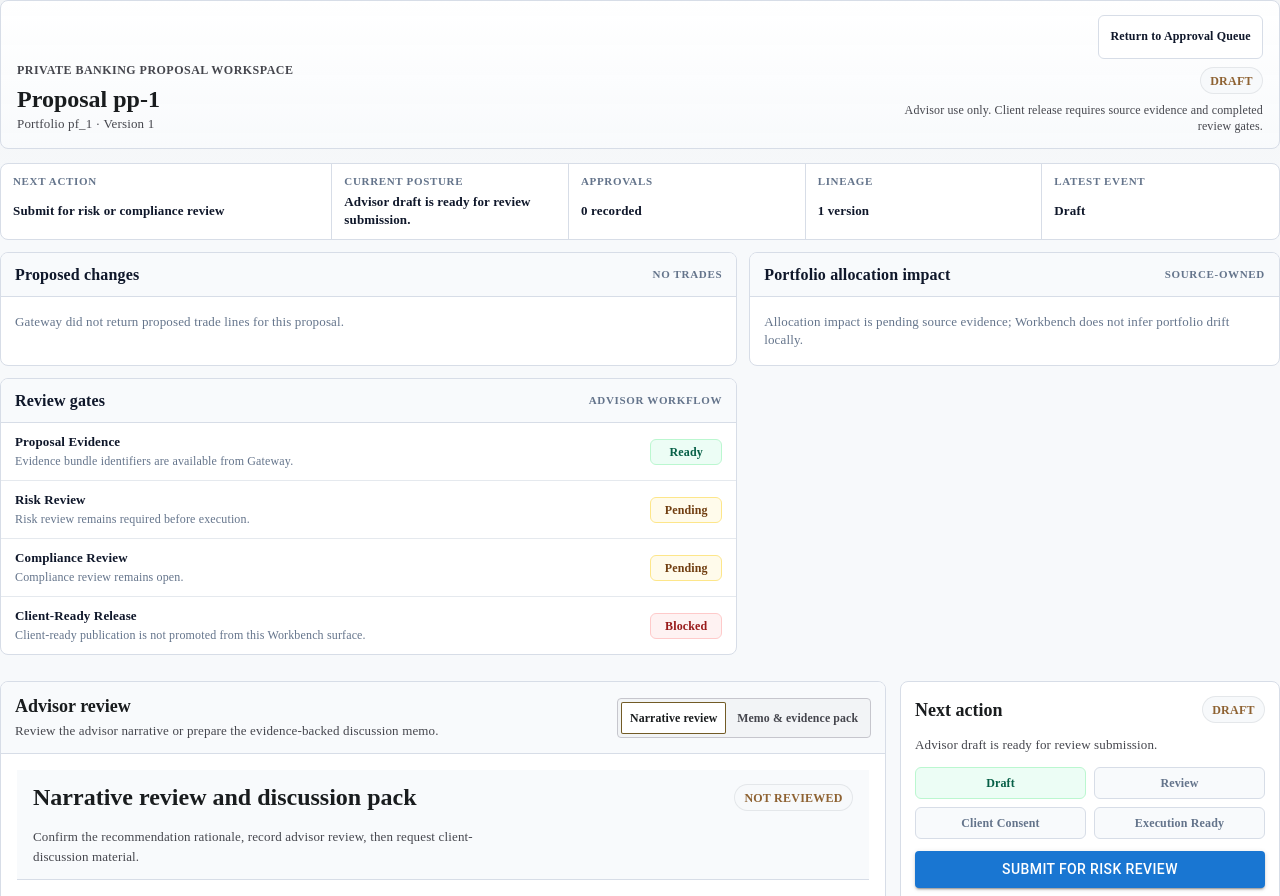
Test: ProposalDetailView › submits draft to risk review
Click the button "Submit for risk review" at (1090, 870), box x1=915 y1=851 x2=1265 y2=888
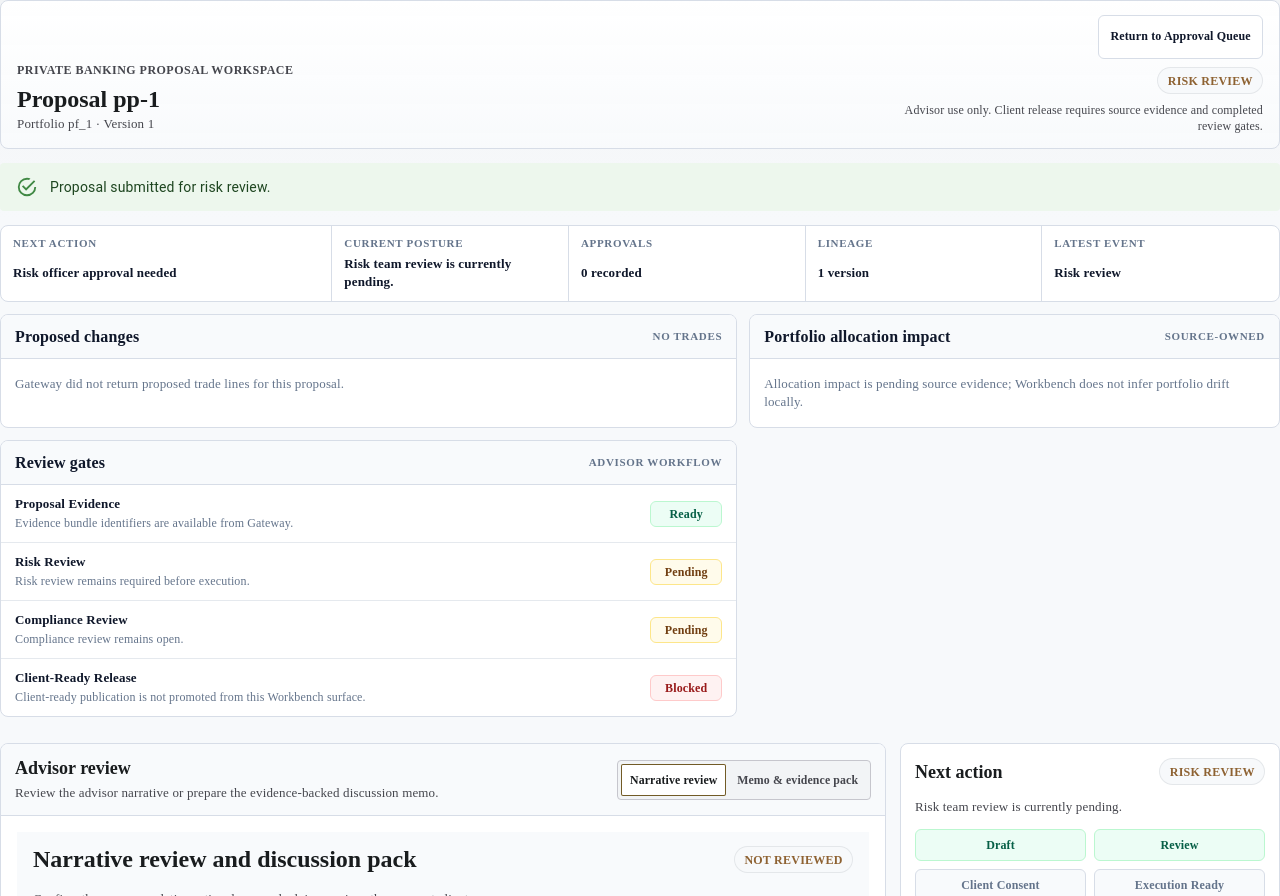
Check: the message with test id "proposal-action-status" does not show "Current posture", box x1=0 y1=163 x2=1279 y2=211
Check: the message with test id "proposal-action-status" reads "Proposal submitted for risk review.", box x1=50 y1=179 x2=271 y2=195
